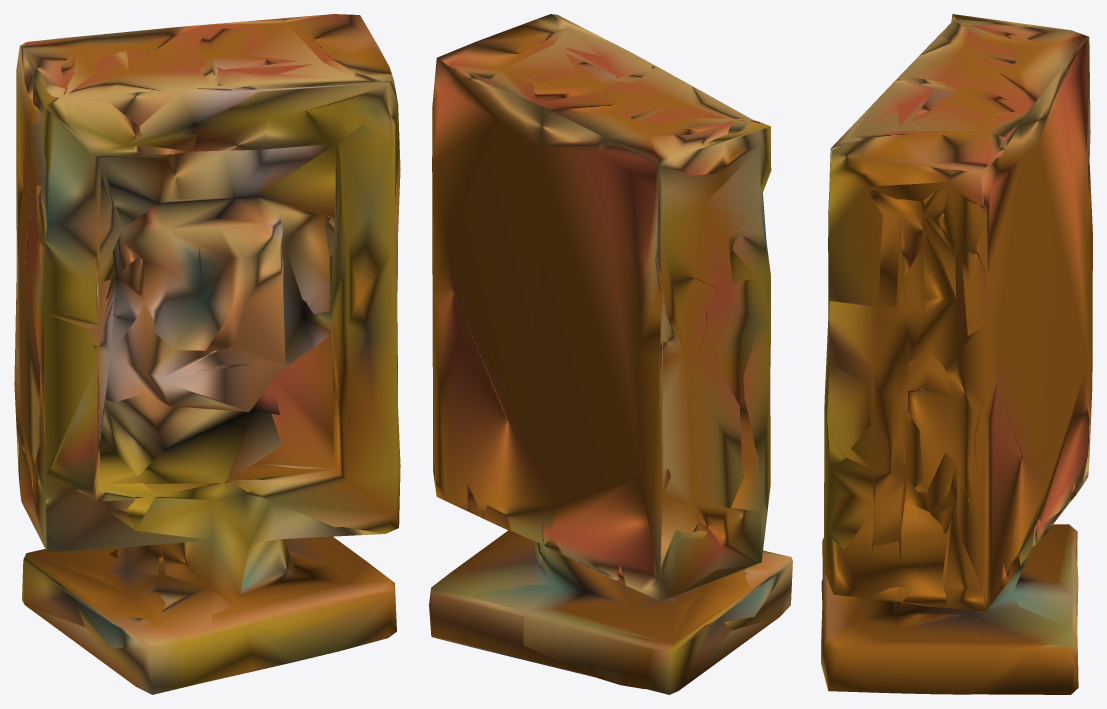
Rendered from gen3d-portrait-lod0.glb.
3 views of the same model, side by side, from view 1: azimuth 30°, elevation 25°; view 2: azimuth 150°, elevation 25°; view 3: azimuth 270°, elevation 25° (orthographic). The views are drawn at different scales.
Parts seen in each view (by area): view 1: part_0; view 2: part_0; view 3: part_0.
Part boxes in pixels (left/top/right/bottom): part_0: left=14, top=14, right=400, bottom=694; part_0: left=429, top=14, right=792, bottom=694; part_0: left=821, top=14, right=1092, bottom=694.
Size of the model in its own units: 0.6191 by 1 by 0.4456.
